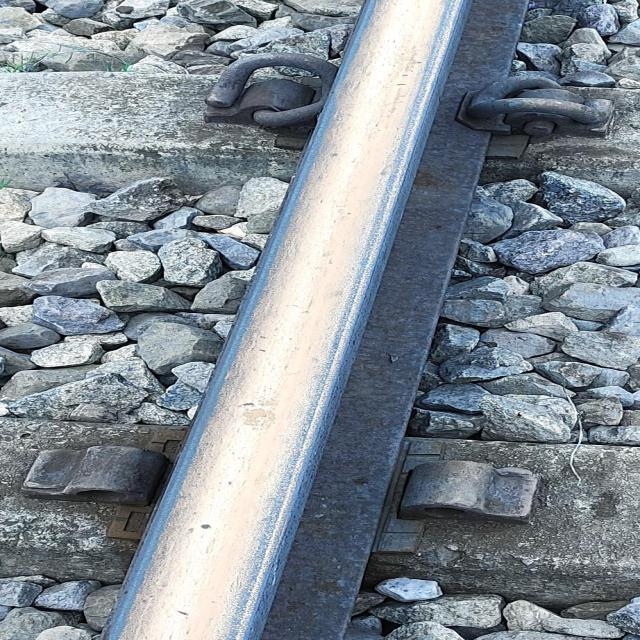Good Fasteners: (463, 75, 626, 158), (203, 53, 338, 128)
Missing Fastener: (22, 436, 170, 540), (398, 441, 541, 524)
